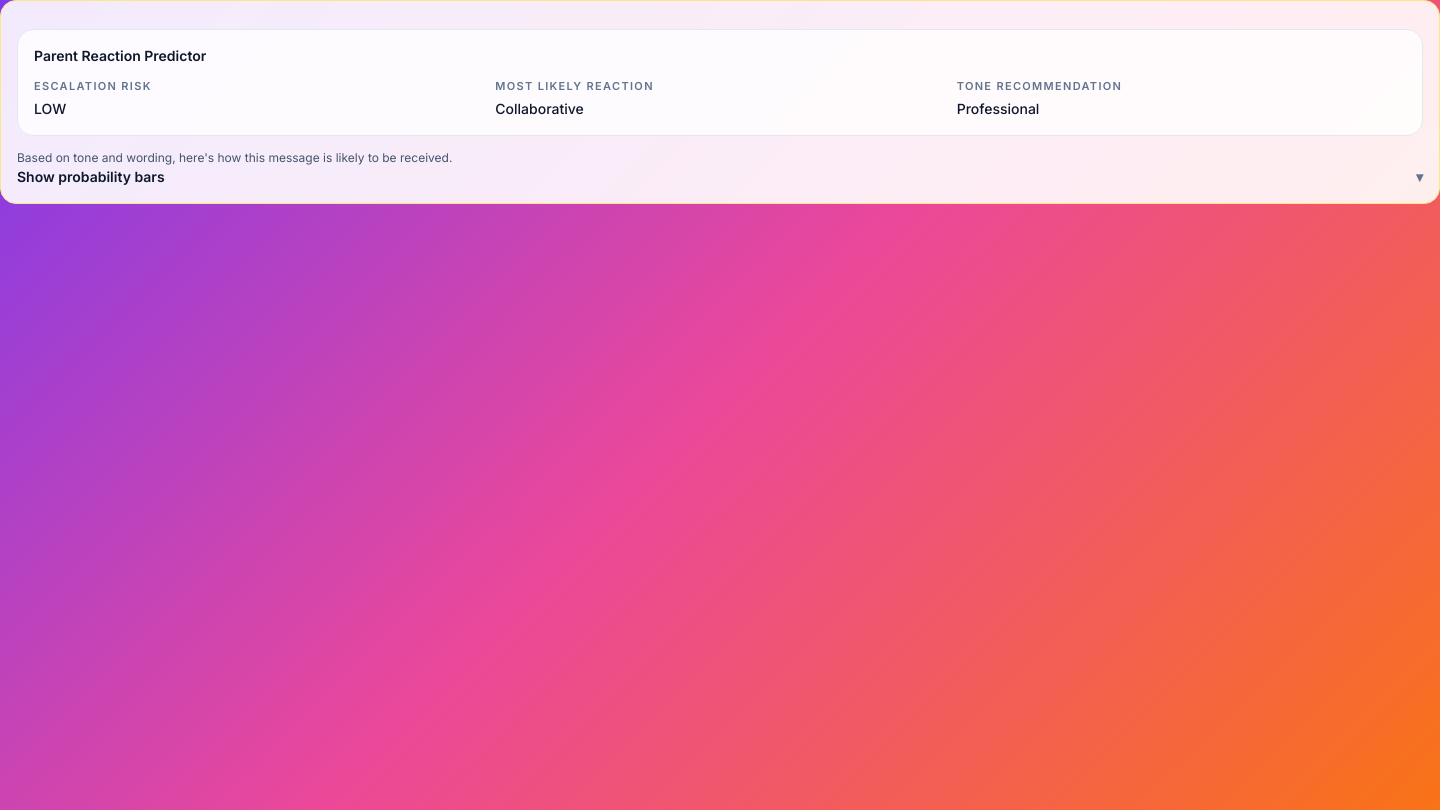
ReactionForecast › normalizes the rendered full forecast so visible percentages total exactly 100
What coordinates should you click on to do the following:
click the button "Show probability bars ▾"
I would click on:
 (91, 176)
Its box is x1=17 y1=167 x2=1423 y2=187.
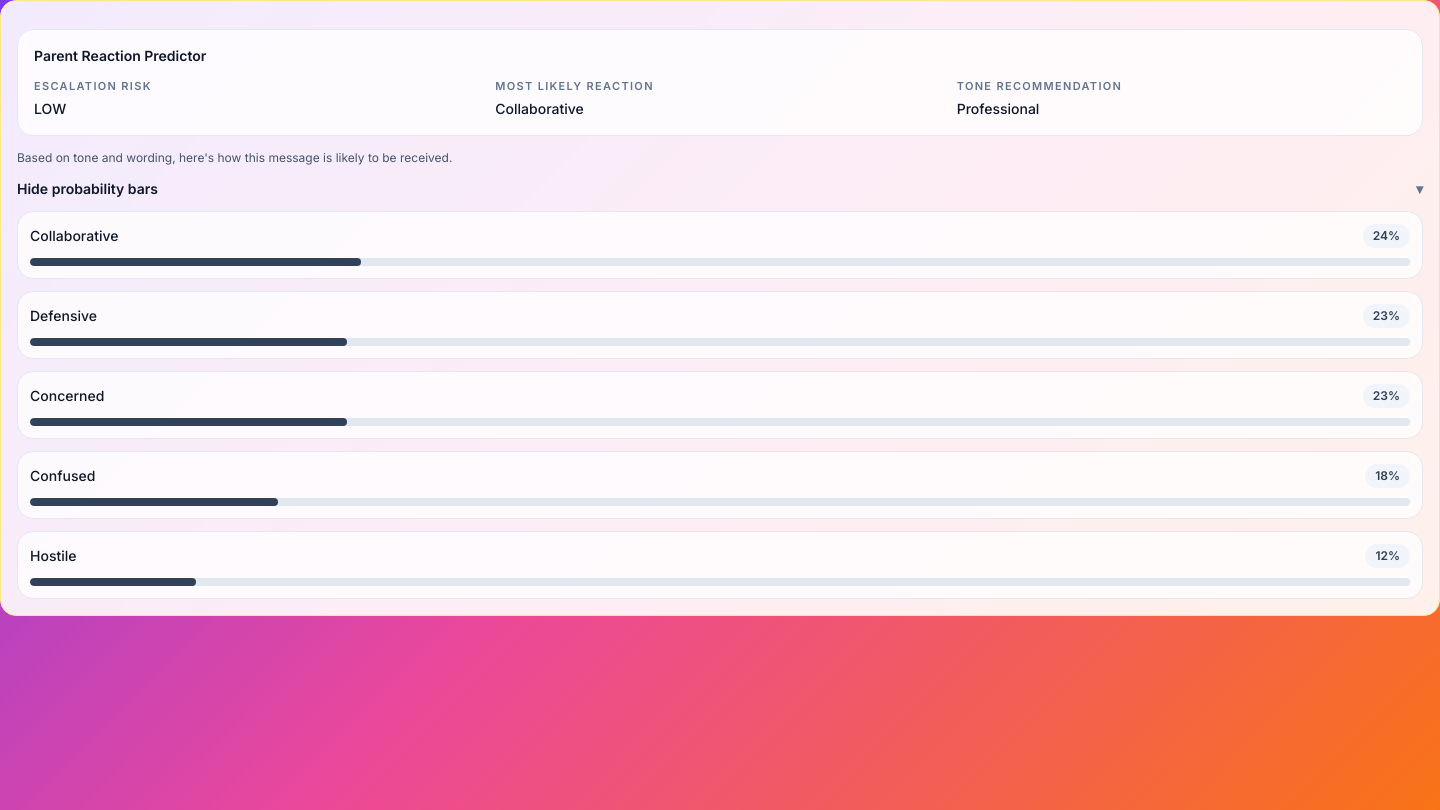
Check: the text "24%" is shown, box x1=1363 y1=224 x2=1410 y2=248
